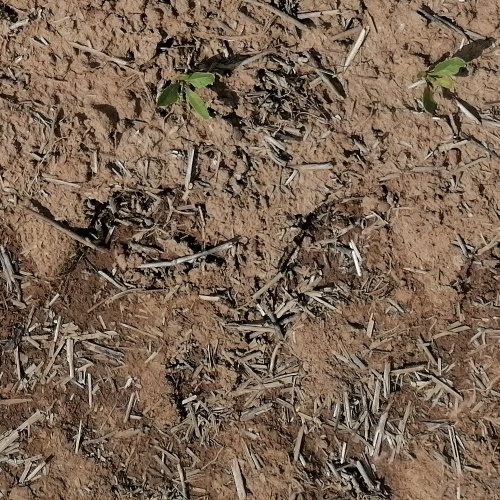beet: (156, 70, 216, 117), (423, 54, 466, 95)
